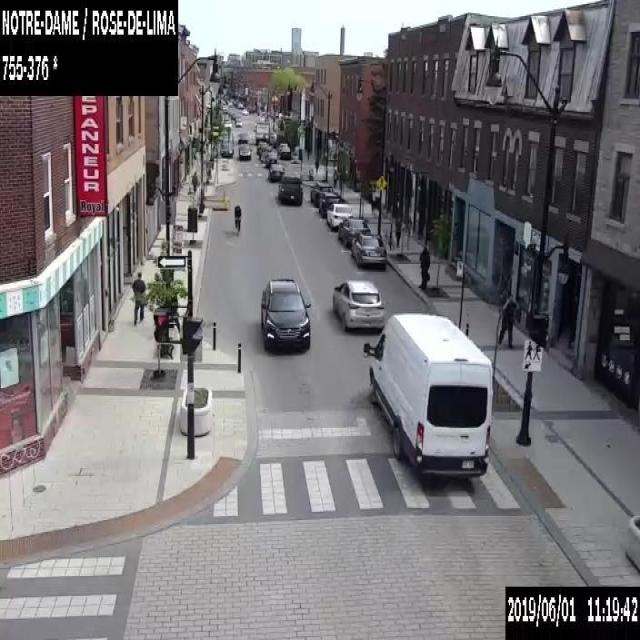cyclist: (233, 204, 242, 233)
pedestrian: (498, 292, 516, 349), (130, 270, 146, 324), (418, 244, 430, 291), (191, 170, 198, 193), (332, 168, 338, 187), (314, 158, 319, 174)
vehicle: (362, 312, 492, 476), (260, 277, 310, 352), (332, 280, 384, 330), (351, 234, 386, 269), (338, 217, 370, 246), (278, 170, 302, 204), (326, 202, 351, 228), (318, 190, 340, 217), (310, 182, 332, 207), (253, 121, 269, 145), (268, 163, 284, 181), (258, 145, 272, 160), (220, 142, 232, 158), (239, 144, 250, 160), (265, 152, 276, 166), (280, 146, 290, 158), (256, 141, 266, 151), (238, 132, 248, 142), (278, 143, 287, 154), (241, 108, 248, 115), (223, 120, 231, 126), (235, 118, 241, 126)
